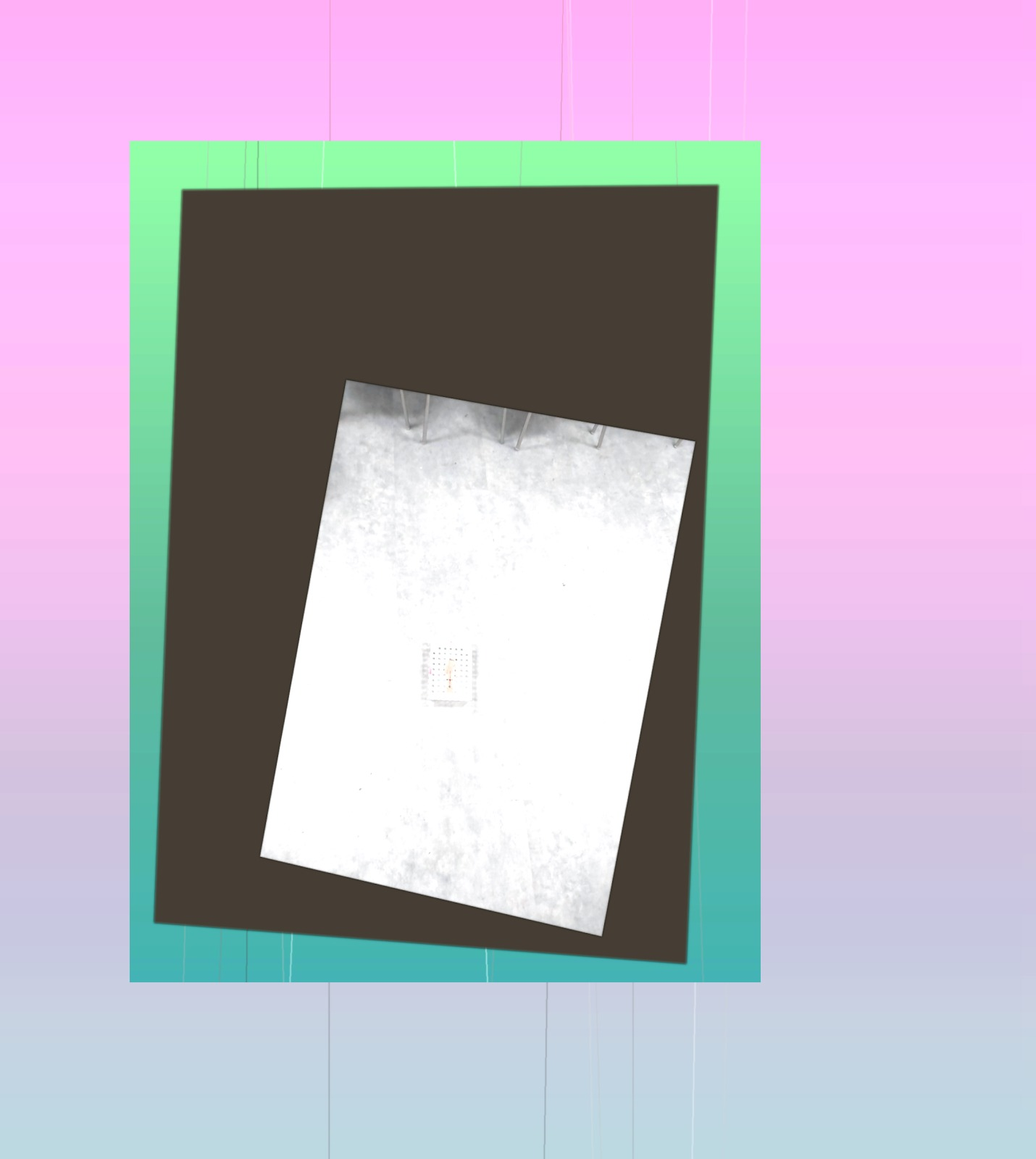basket: (425, 643, 475, 704)
mannequin: (443, 656, 456, 695)
